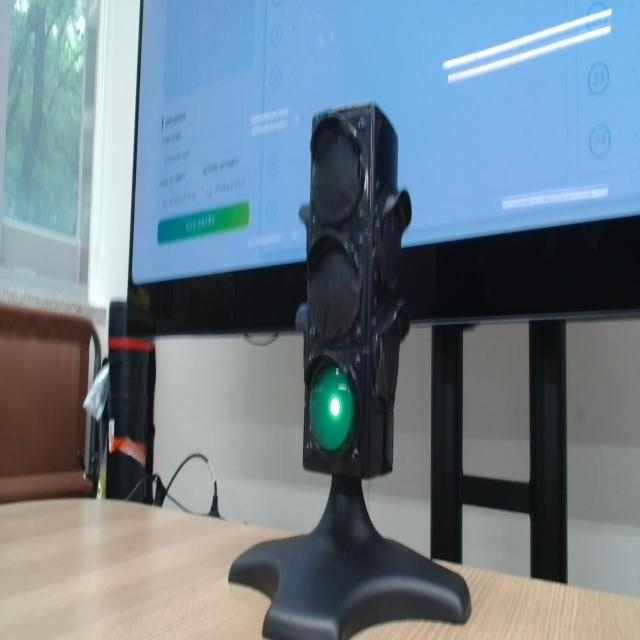green_light: (309, 366, 354, 453), (330, 398, 340, 417)
